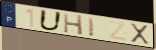1: (25, 8, 35, 29)
H: (62, 13, 84, 37)
I: (87, 16, 96, 38)
U: (38, 9, 64, 32)
X: (129, 23, 151, 46)
Z: (107, 20, 129, 43)
